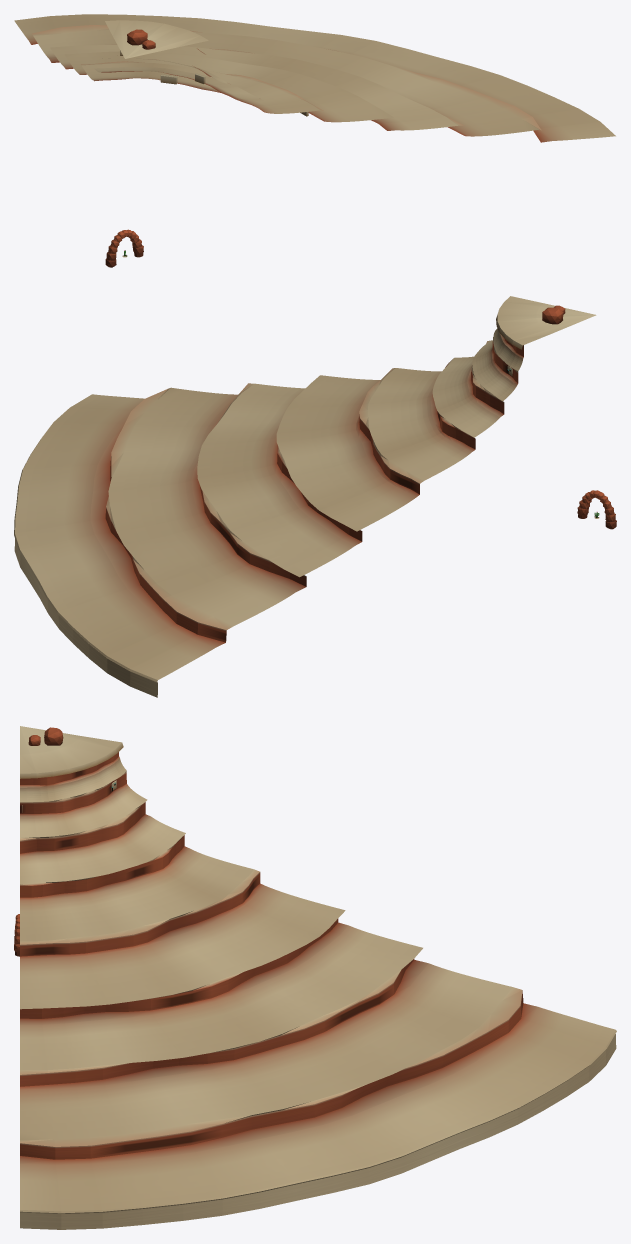
Rendered from canyon-s5-mHFiVYeq.glb.
3 views of the same model, one above another, from view 1: azimuth 30°, elevation 25°; view 2: azimuth 150°, elevation 25°; view 3: azimuth 270°, elevation 25° (orthographic). The views are drawn at different scales.
Parts seen in each view (by area): view 1: sc_landmark_0, sc_arch; view 2: sc_landmark_0, sc_arch; view 3: sc_landmark_0.
Boxes of the visible parts, box(x1,y1,x2,y2) form: sc_landmark_0: box(14, 14, 615, 142); sc_arch: box(105, 229, 143, 267); sc_landmark_0: box(14, 296, 596, 697); sc_arch: box(577, 490, 616, 529); sc_landmark_0: box(20, 726, 616, 1229).
Size of the model in its own units: 446 by 186 by 410.
